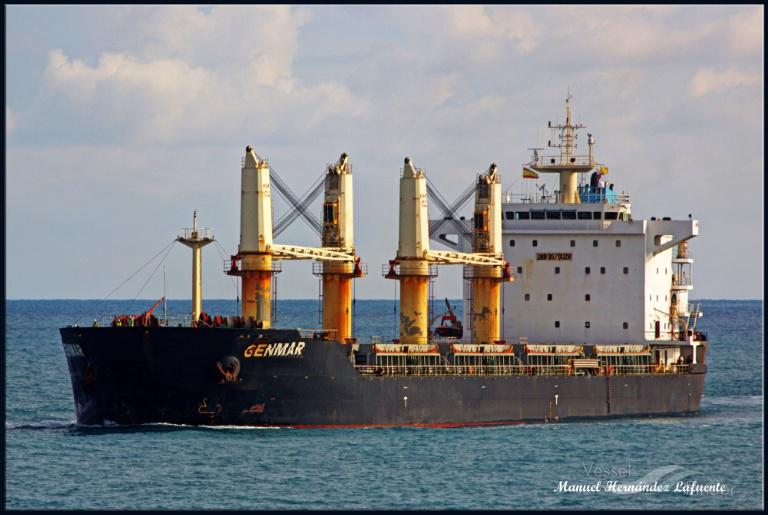OCR: (243, 338, 314, 363)
